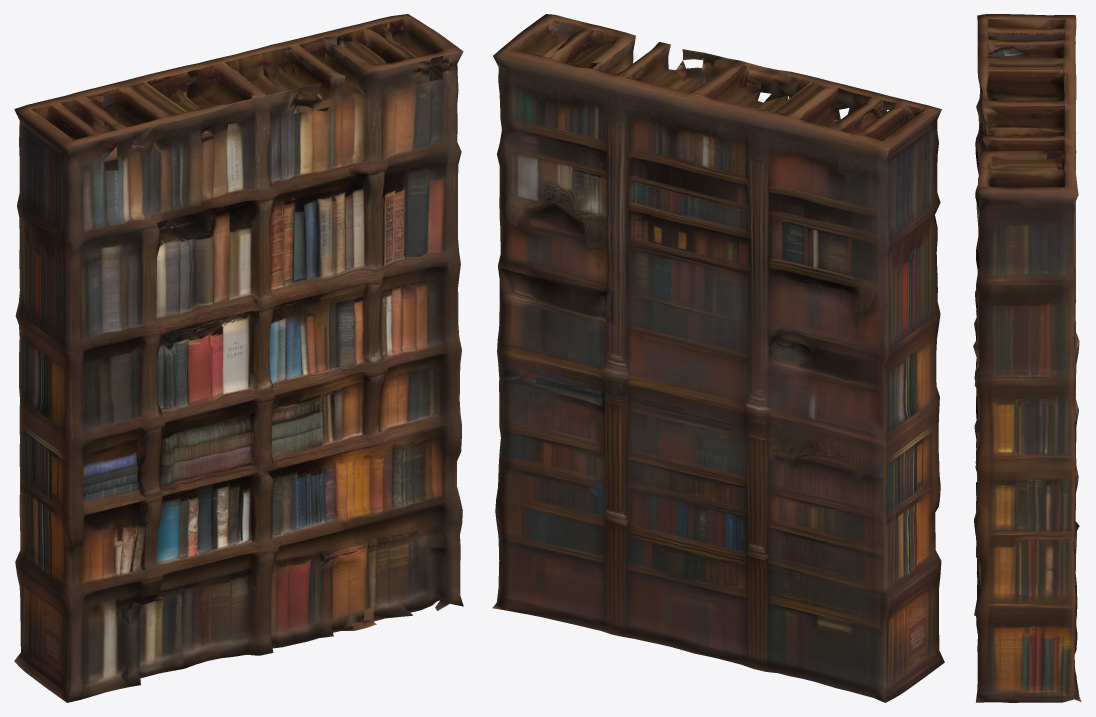
3 views of the same model, side by side, from view 1: azimuth 30°, elevation 25°; view 2: azimuth 150°, elevation 25°; view 3: azimuth 270°, elevation 25° (orthographic). The views are drawn at different scales.
Bounding box in the file's own units: 1.5 × 2 × 0.3851.
1 material, 1 textured.
